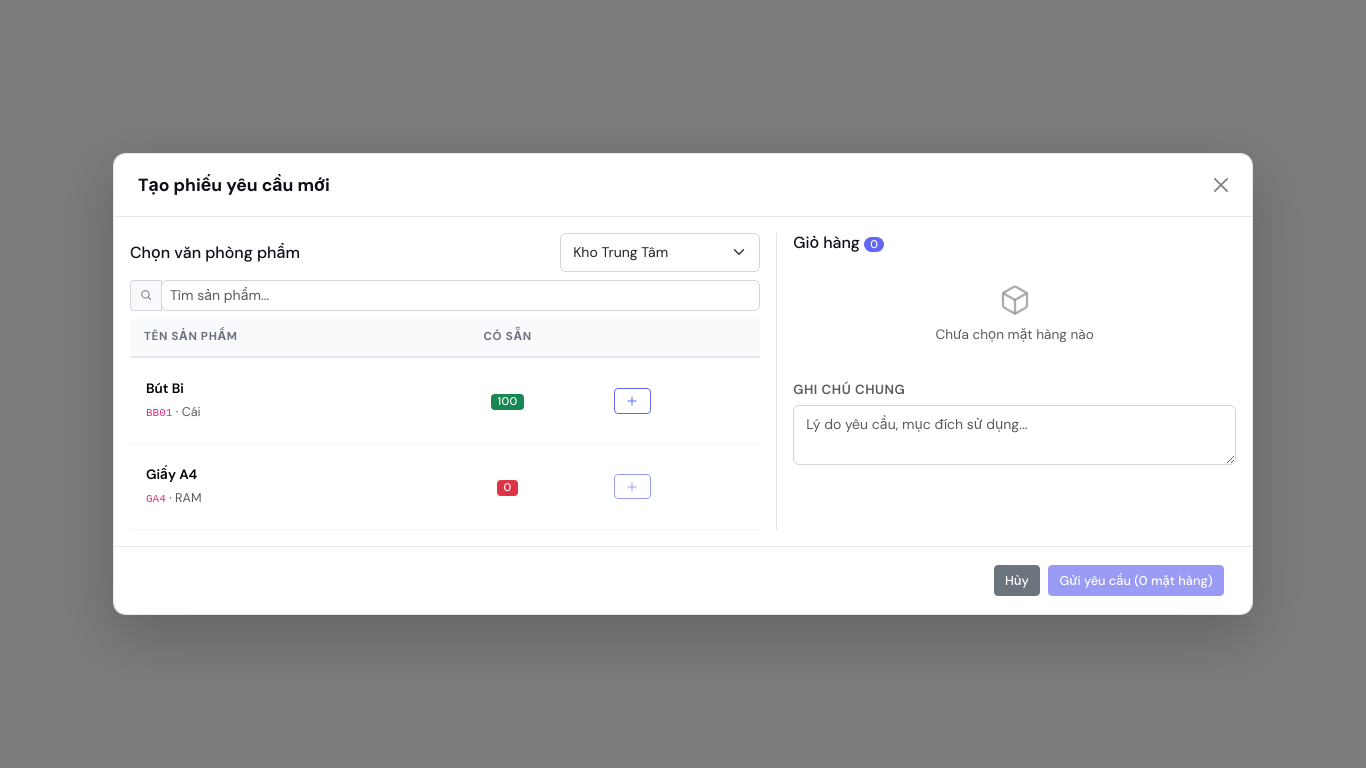
Test: RequisitionCreateModal Component › adds item to cart and updates cart summary
Expected: the text "Bút Bi" is shown, x1=146 y1=380 x2=184 y2=397
Expected: the dropdown shows "Kho Trung Tâm", x1=560 y1=233 x2=760 y2=272
Step 1. Click the button titled "Thêm vào giỏ" → [632, 401], box x1=614 y1=388 x2=650 y2=414
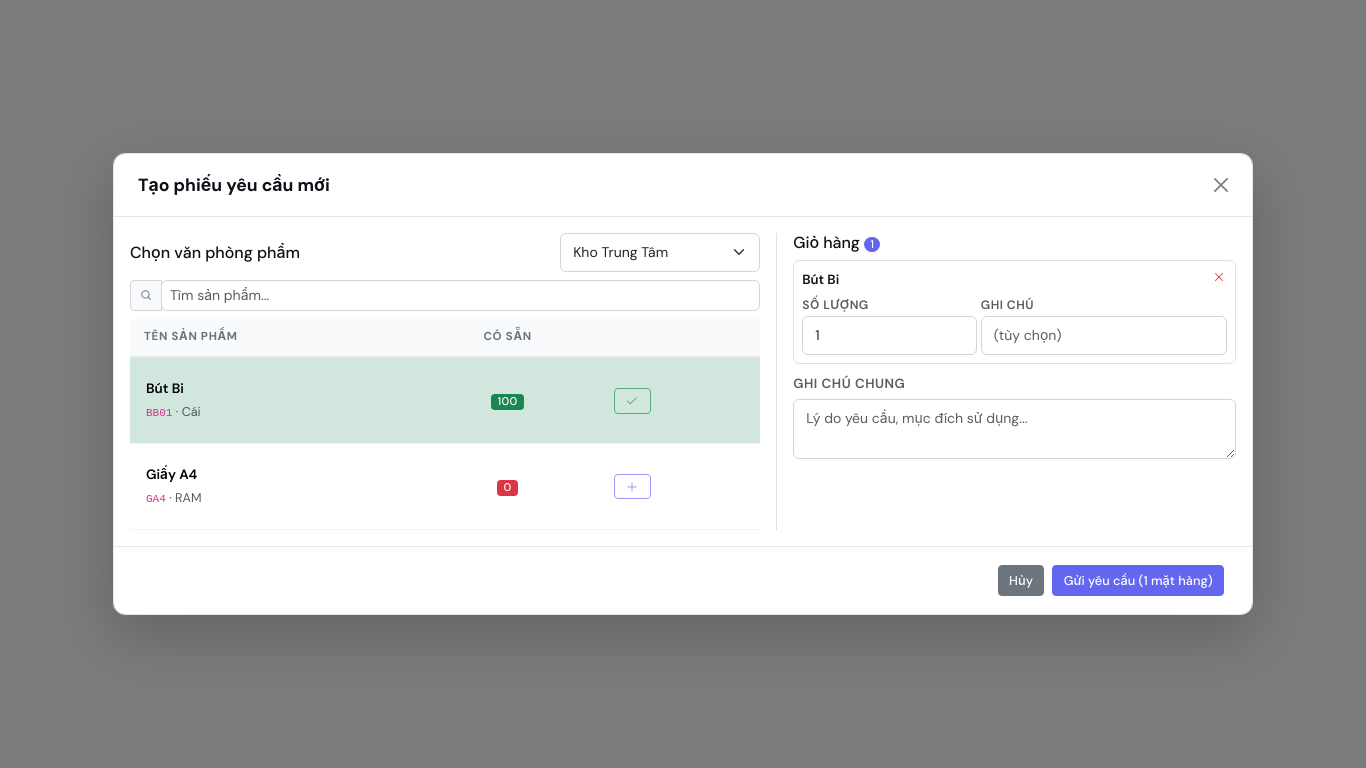
Expected: the heading "Giỏ hàng 1" is shown, x1=793 y1=232 x2=880 y2=253
Result: the text "1" is shown at x1=864 y1=237 x2=880 y2=252
Result: the number field holds "1" at x1=802 y1=316 x2=977 y2=355
